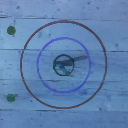Axe Tip: (60, 61, 71, 65)
